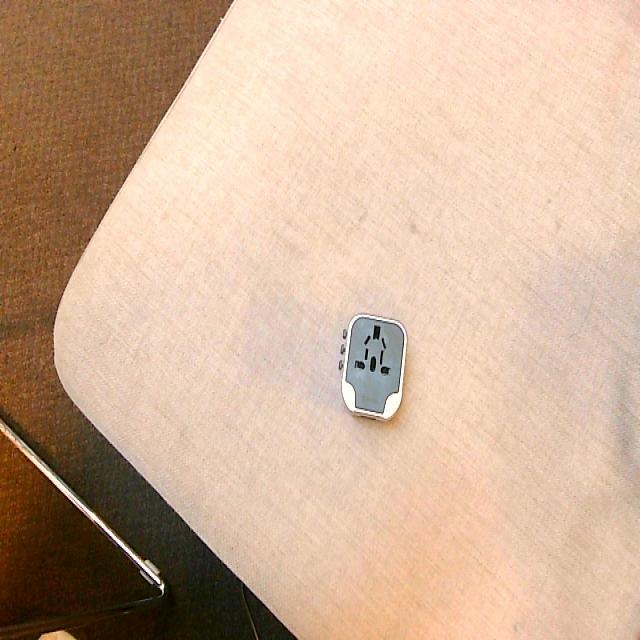adapter: (337, 312, 407, 421)
